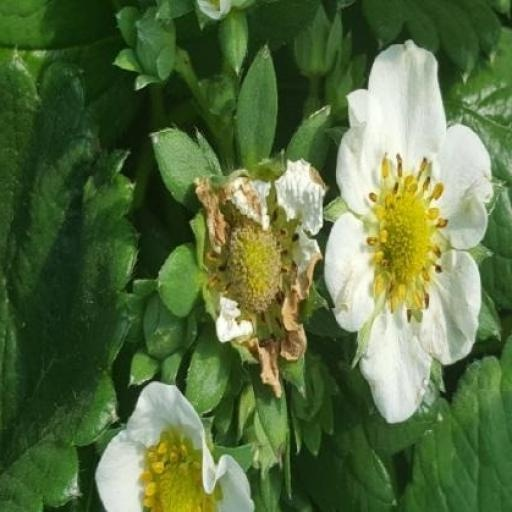Blossom Blight: (62, 150, 150, 324), (211, 196, 308, 350)
